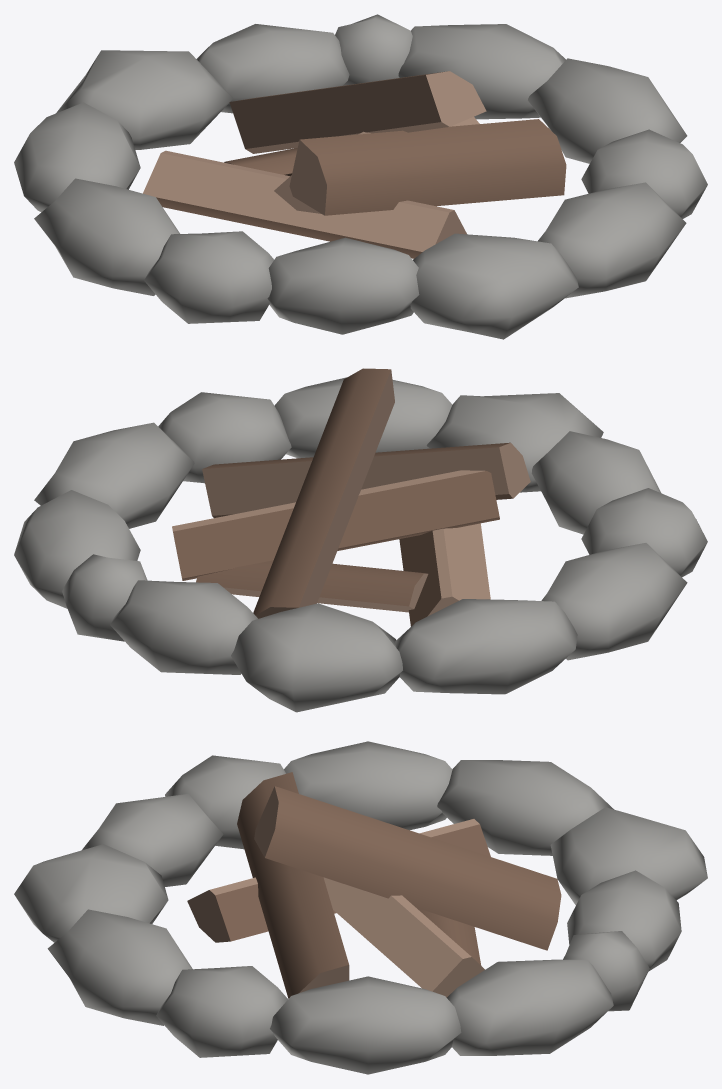
The model's file is mdl_campfire01.fbx.
3 views of the same model, one above another, from view 1: azimuth 30°, elevation 25°; view 2: azimuth 150°, elevation 25°; view 3: azimuth 270°, elevation 25° (orthographic). The views are drawn at different scales.
Parts seen in each view (by area): view 1: mdl_campfire02; view 2: mdl_campfire02; view 3: mdl_campfire02.
Part boxes in pixels (left/top/right/bottom): mdl_campfire02: left=14, top=14, right=707, bottom=339; mdl_campfire02: left=14, top=368, right=707, bottom=712; mdl_campfire02: left=14, top=741, right=707, bottom=1074.
Size of the model in its own units: 70.87 by 19.94 by 72.29.
Materials: 1 (1 with a texture image).
